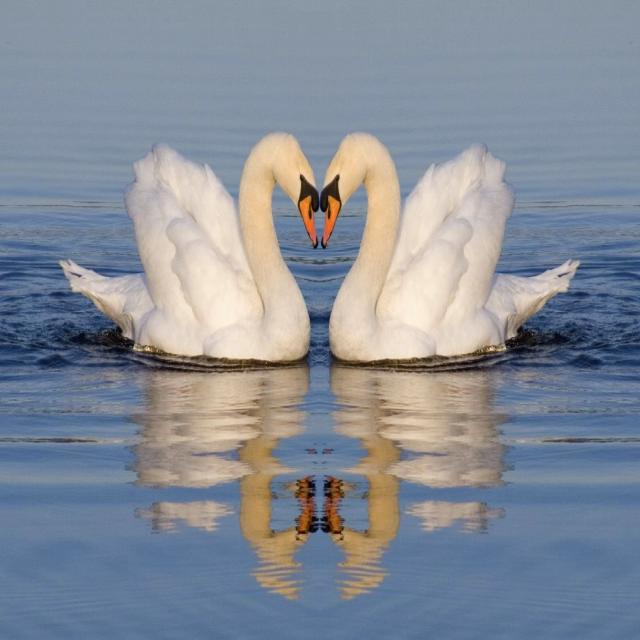swan: (320, 133, 579, 361), (61, 133, 320, 361)
